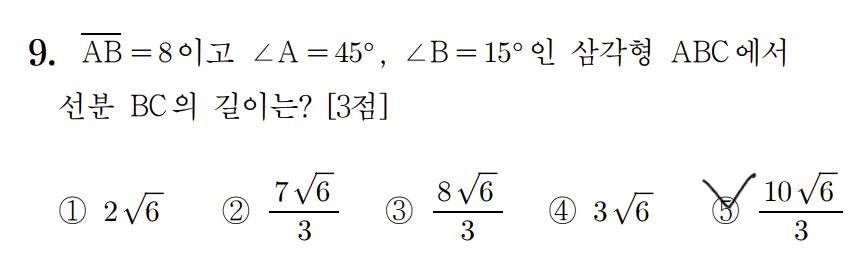1: (698, 171, 760, 230)
paper: (710, 193, 747, 229), (544, 192, 581, 228), (382, 193, 419, 229), (220, 192, 257, 228), (53, 192, 90, 228)
